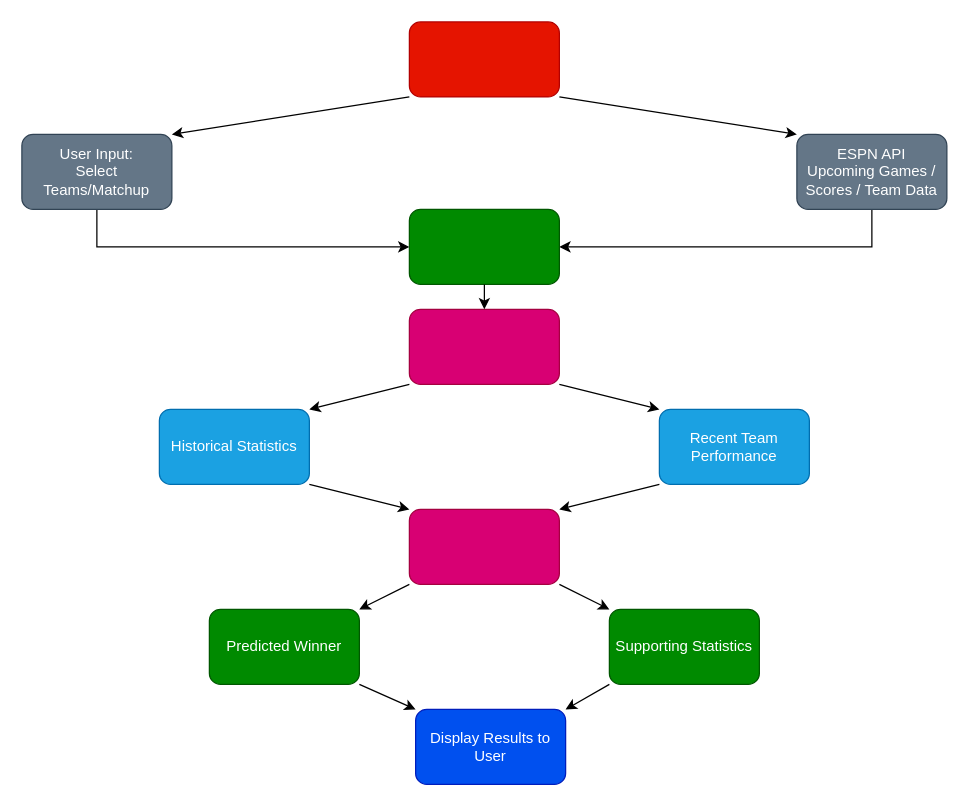
Image size: 969x806. Some labels were removed from this diagram. The shapes that lost their labels are listed below. From the top down, each one's box as (x1, y1, x2, y2) in pixels, then its label:
(408, 21, 559, 97): Sports Predictor Main.java
(408, 208, 559, 284): Fetch Matchup Data (HttpClient)
(408, 308, 559, 384): Parse JSON (Gson)
(408, 508, 559, 584): Prediction Algorithm (Compare Teams)
